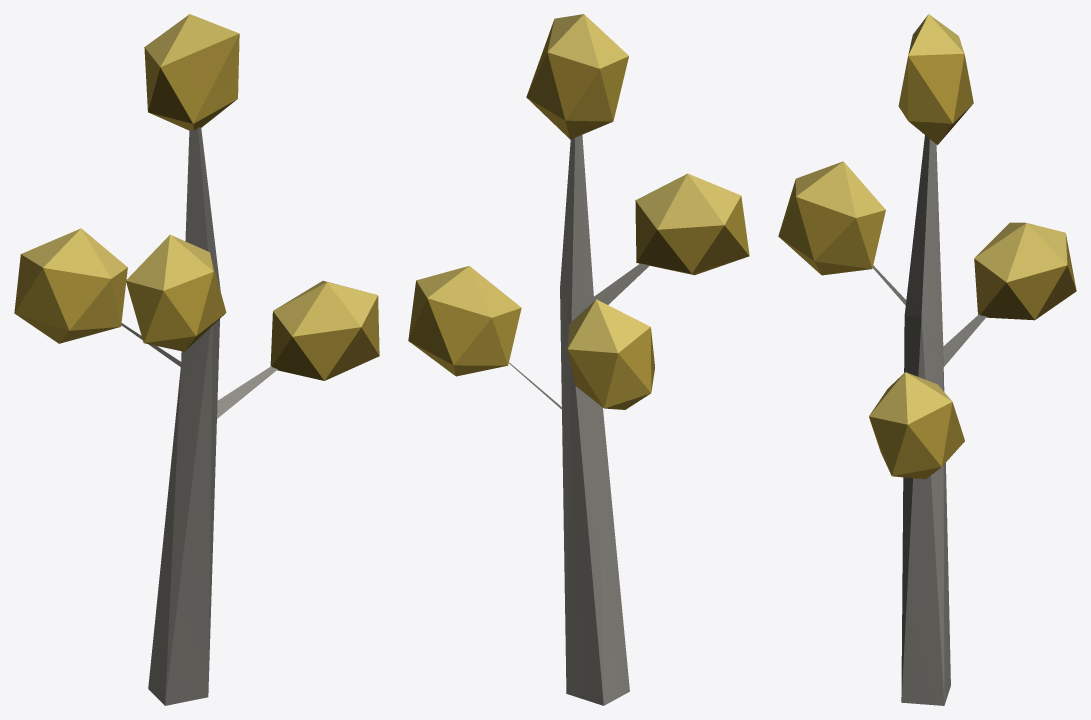
3 renders of one model, left to right at view 1: azimuth 30°, elevation 25°; view 2: azimuth 150°, elevation 25°; view 3: azimuth 270°, elevation 25°, orthographic.
Visible parts, largest first — view 1: WK_Tree_Birch_GoldenLean_LOD2_Compact; view 2: WK_Tree_Birch_GoldenLean_LOD2_Compact; view 3: WK_Tree_Birch_GoldenLean_LOD2_Compact.
Boxes of the visible parts, x1,y1,x2,y2 form: WK_Tree_Birch_GoldenLean_LOD2_Compact: (14,14,379,705); WK_Tree_Birch_GoldenLean_LOD2_Compact: (408,14,749,705); WK_Tree_Birch_GoldenLean_LOD2_Compact: (778,14,1076,705).
Size of the model in its own units: 3.27 by 7.04 by 2.77.
